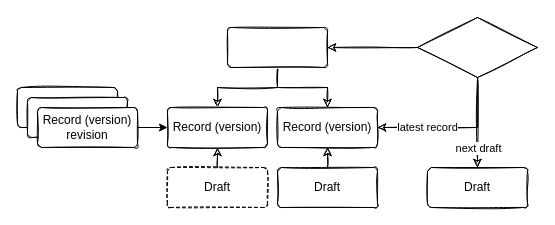
The diagram is 555 pixels wide and 225 high, and some of its shapes have lost their labels. The shapes that lost their labels are listed below. From the top down, each one's centre as x and y in pixels, then its label:
At point (277, 47): "Parent record".
At point (477, 47): "Version state".
